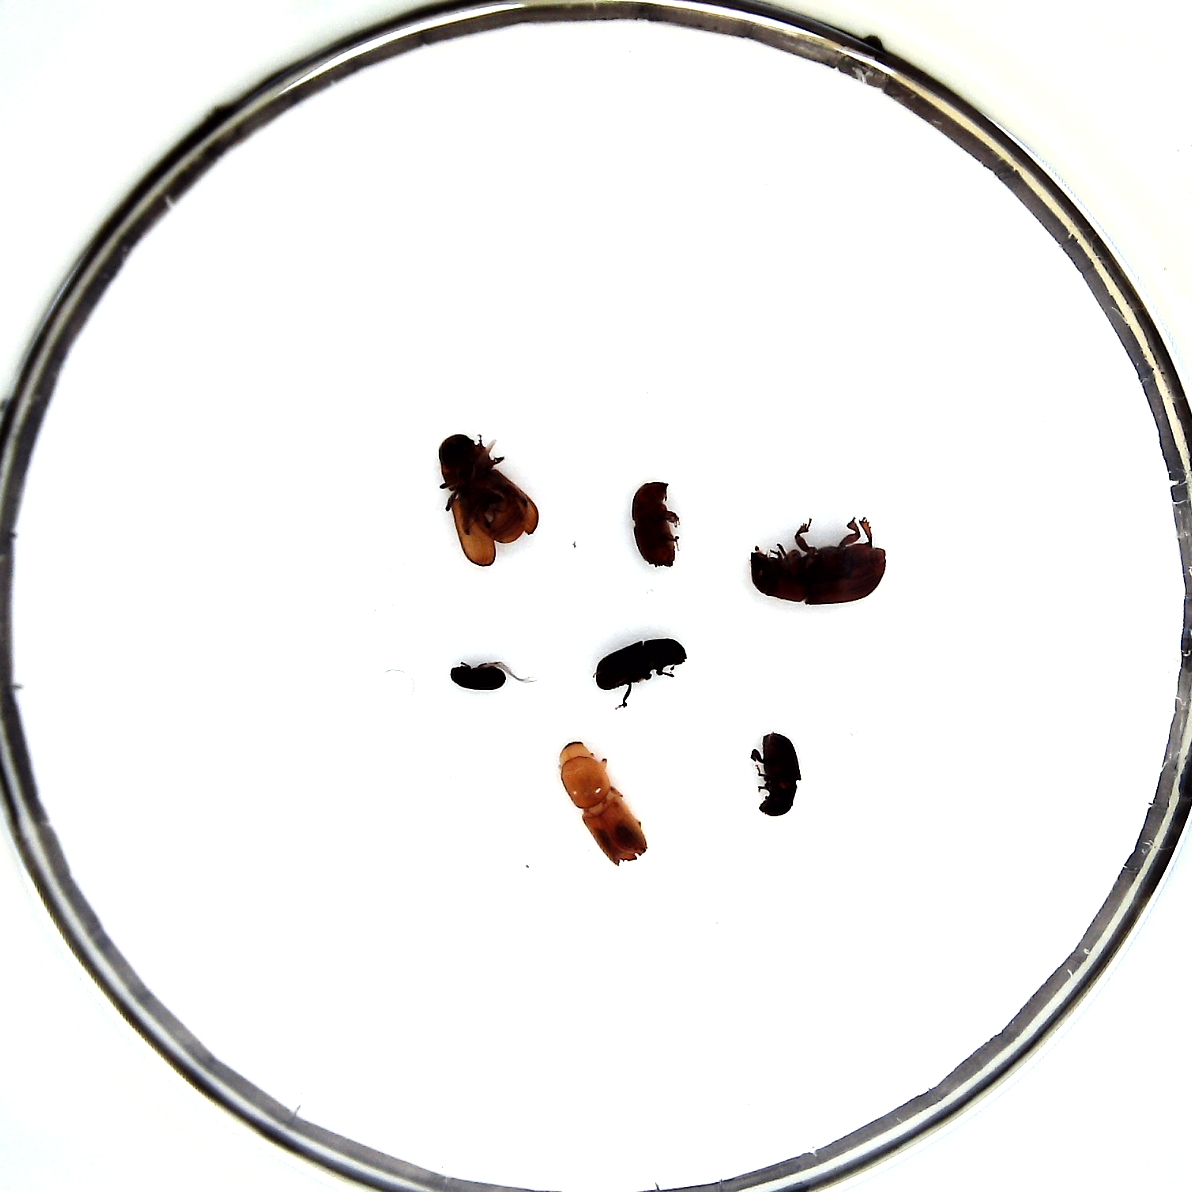Boerner: (559, 743, 648, 868)
Leconte: (438, 434, 539, 568), (750, 545, 886, 606)
armandi: (595, 637, 688, 690), (760, 732, 802, 816)
coleoptera: (450, 663, 506, 689)
linnaeus: (632, 482, 679, 568)
